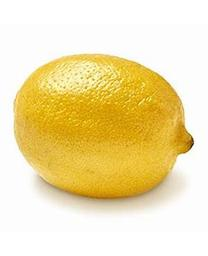lemon: (12, 54, 193, 200)
